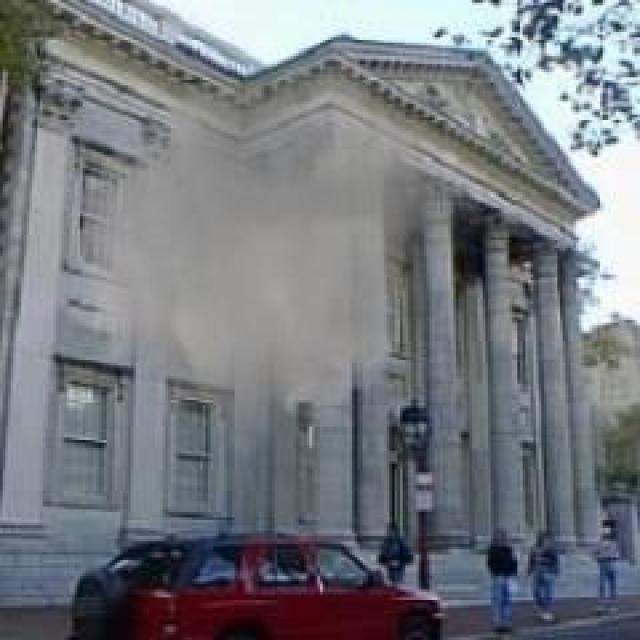Smoke: (71, 61, 422, 426)
